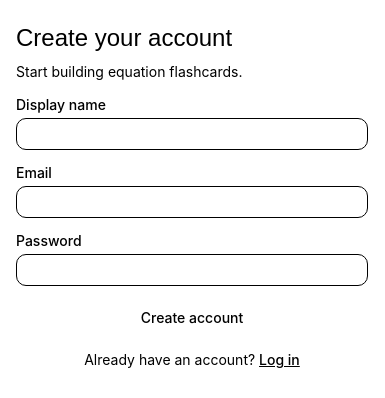
SignUpPage › shows a validation error for a weak password
In the field labelled "Display name": (192, 134) x1=16 y1=118 x2=368 y2=150, type "Ada"
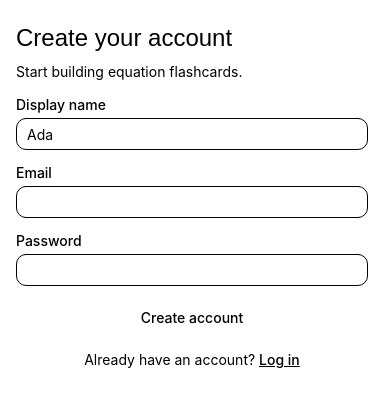
In the field labelled "Email": (192, 202) x1=16 y1=186 x2=368 y2=218, type "ada@example.com"
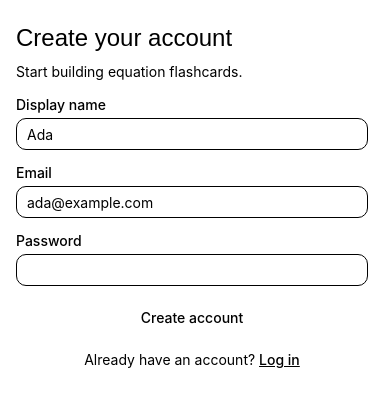
In the password field labelled "Password": (192, 270) x1=16 y1=254 x2=368 y2=286, type "short"
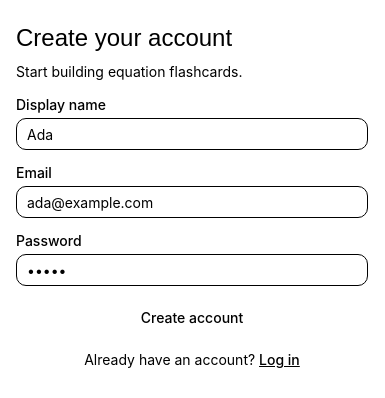
Click the button "Create account": (192, 318) x1=16 y1=302 x2=368 y2=334
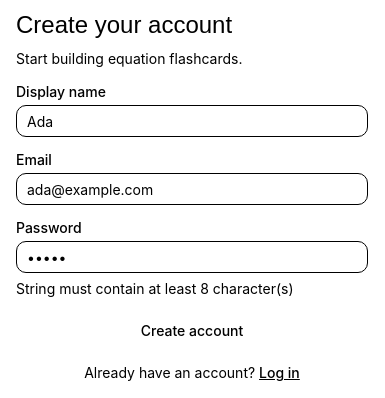
Now the text "at least" is shown, box x1=16 y1=280 x2=294 y2=297
